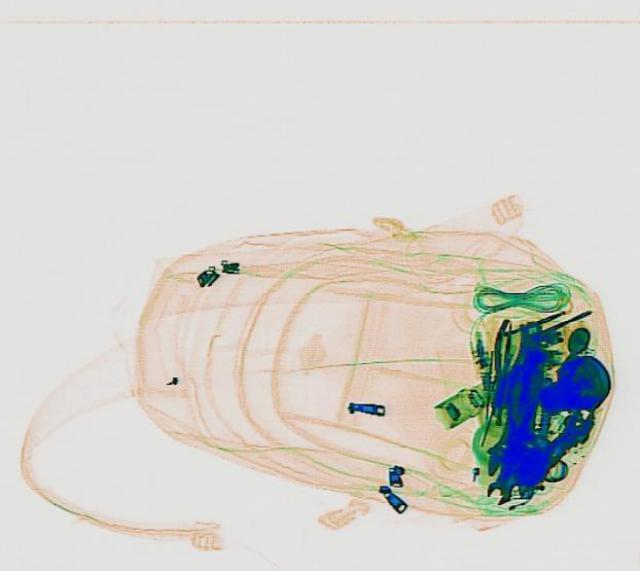Pliers: (483, 315, 527, 405)
Wrench: (475, 407, 595, 506)
